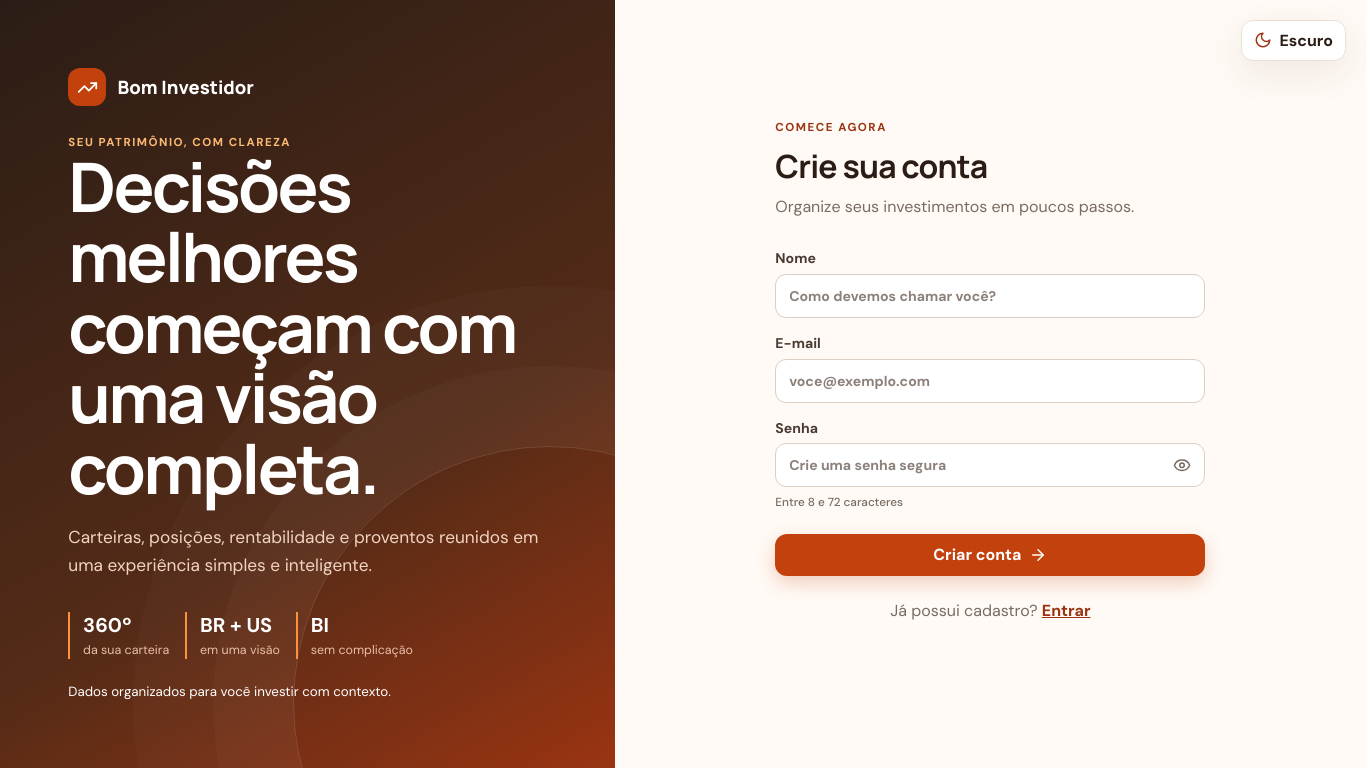
apresenta erros de campos no cadastro
Click the button named "Mostrar senha": (1182, 465) [1163,446,1201,484]
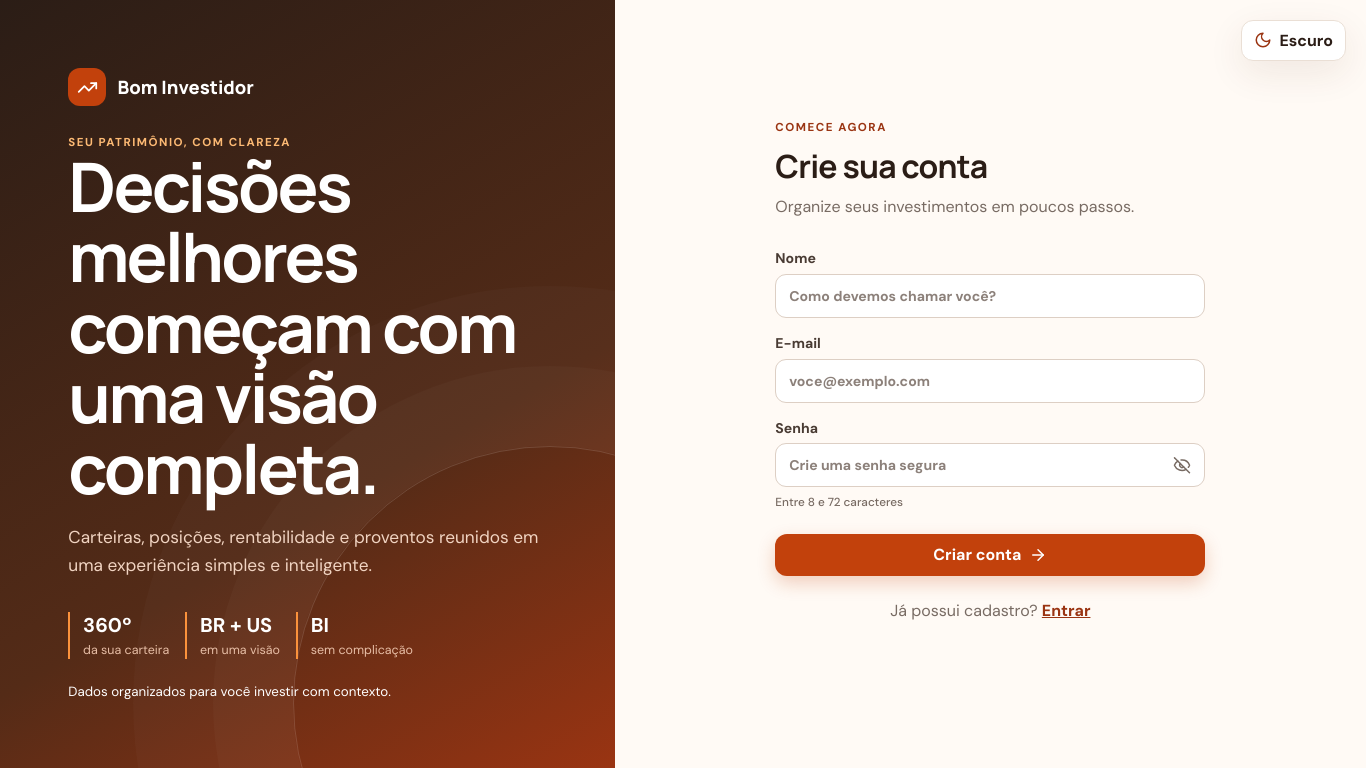
Click the button "Criar conta": (990, 555) [775,534,1205,576]
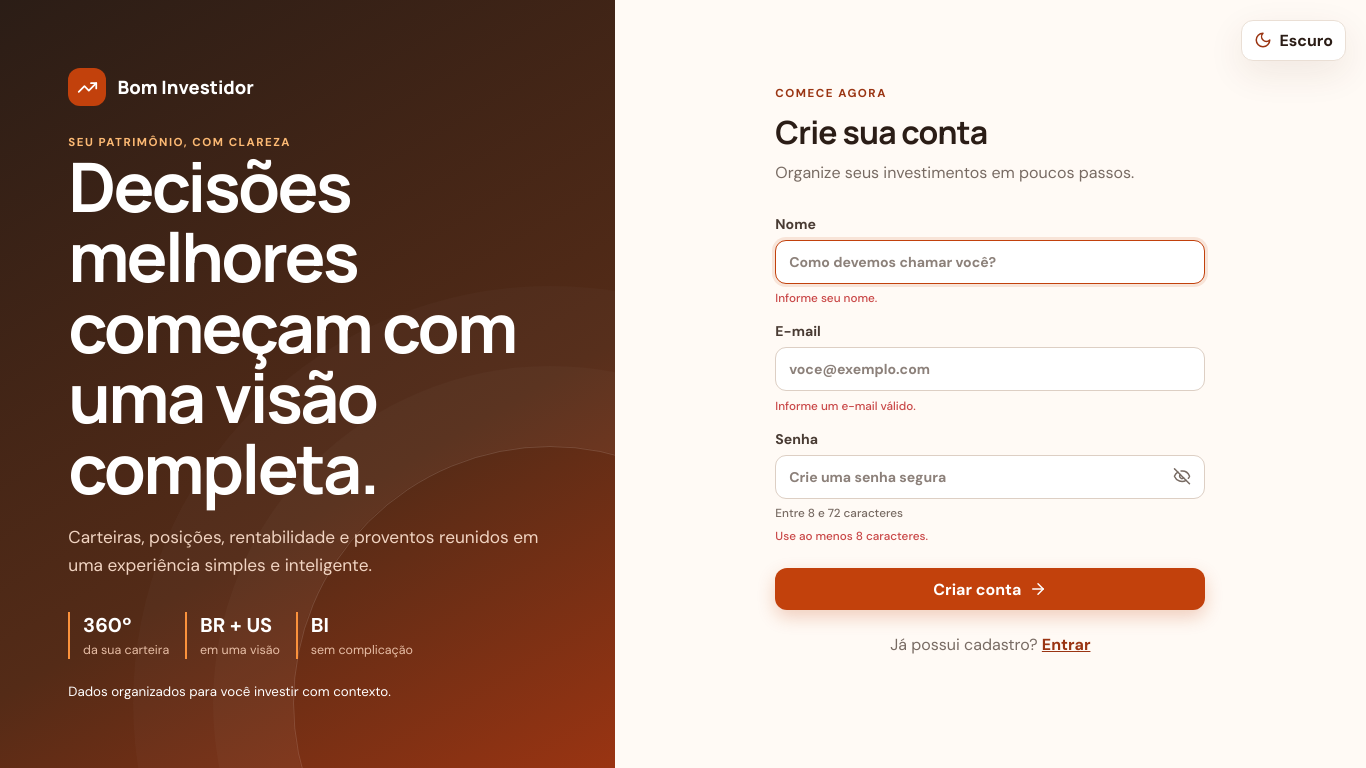
Now the text "Informe seu nome." is shown, box [775,290,877,306]
Now the text "Informe um e-mail válido." is shown, box [775,398,916,414]
